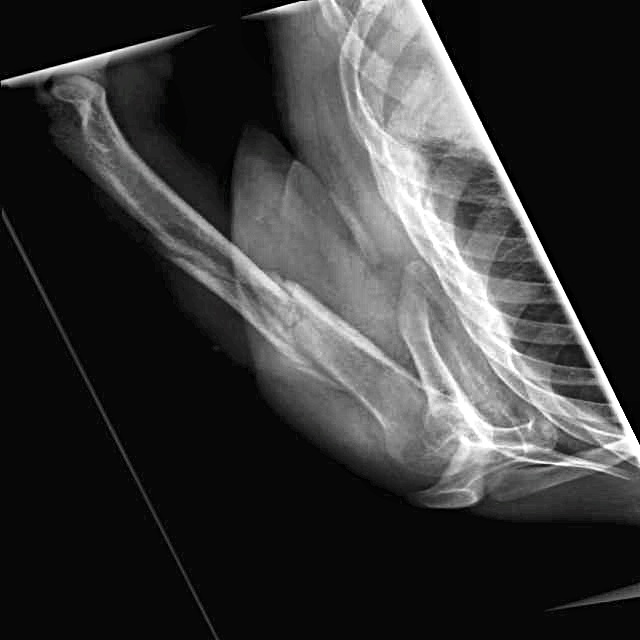Spiral: (197, 238, 368, 406)
